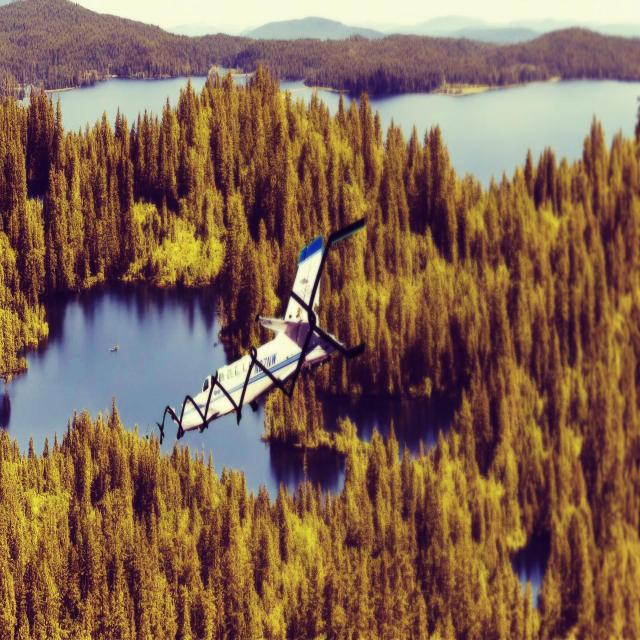airplane: (156, 216, 366, 443)
